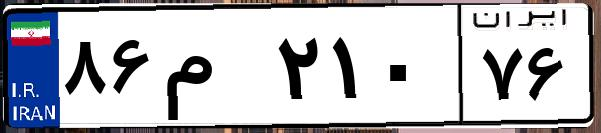0: (385, 28, 445, 110)
1: (330, 28, 385, 110)
2: (270, 28, 330, 110)
6: (525, 38, 570, 115), (110, 28, 158, 98)
7: (475, 38, 525, 113)
8: (57, 26, 110, 100)
م: (158, 20, 270, 120)
